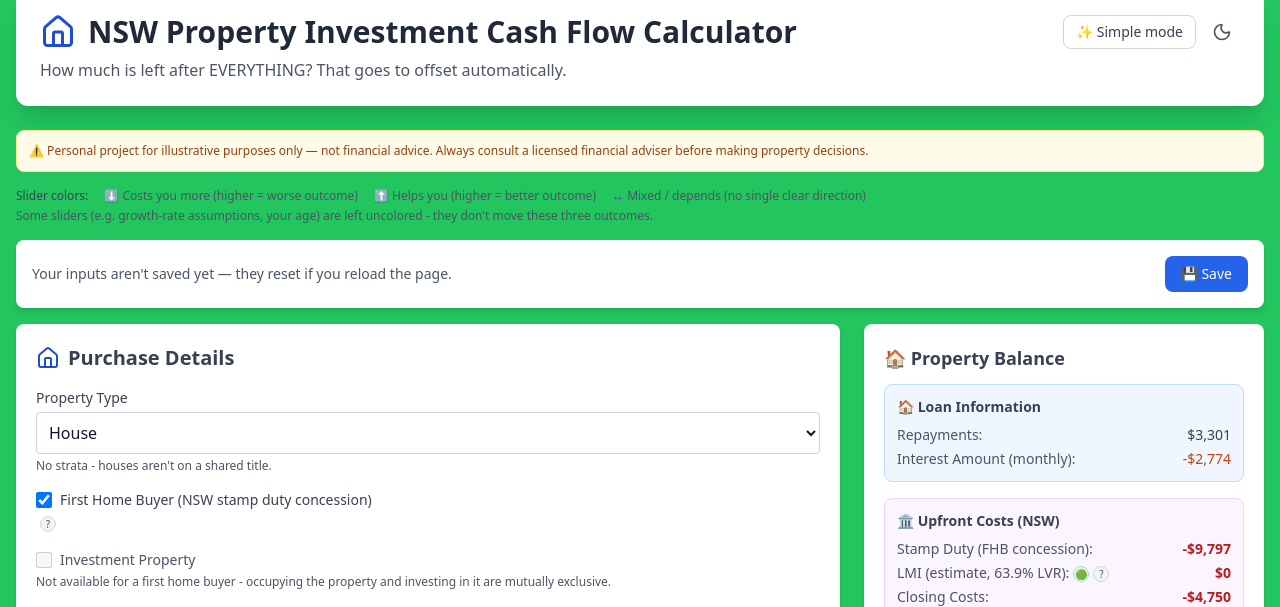
Test case: Property Type (house vs unit) › switching back to house and then to unit again does not re-seed a bumped Strata value
Select "Unit / Apartment" in the dropdown showing "House" at (428, 433), box top-left (36, 412), bottom-right (820, 454)
(page scrolled)
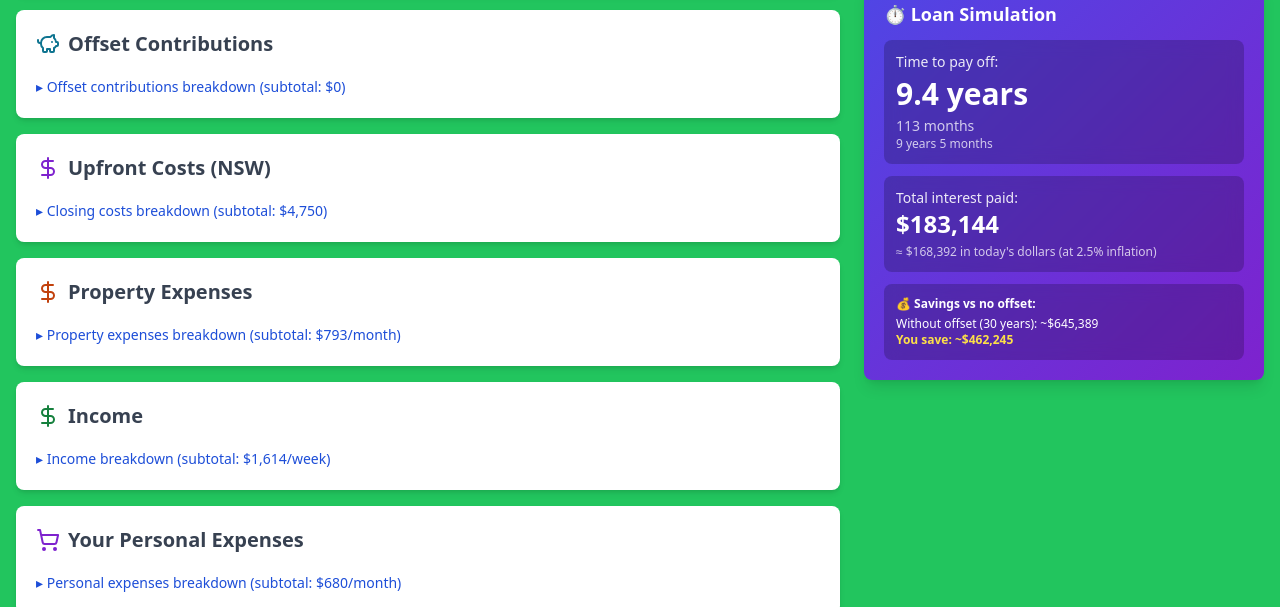
Click the button "▸ Property expenses breakdown (subtotal: $793/month)" at (218, 335), box top-left (36, 325), bottom-right (401, 345)
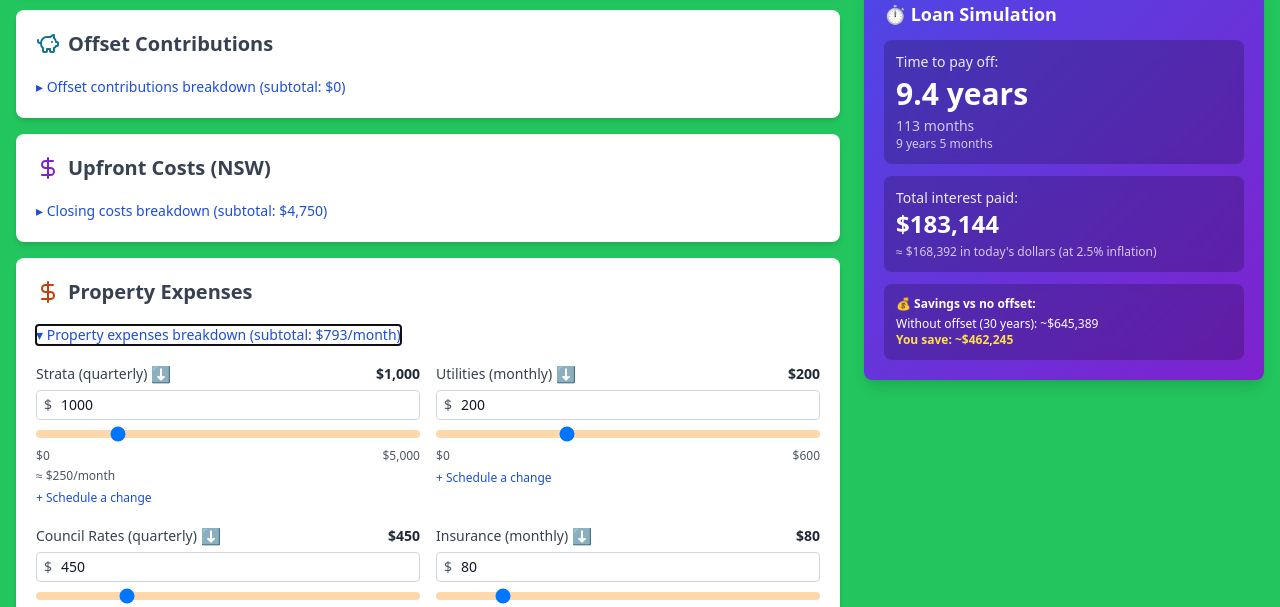
Replace the text in the number field labelled "Strata (quarterly)" with "3000" at (228, 405), box top-left (36, 390), bottom-right (420, 420)
(page scrolled)
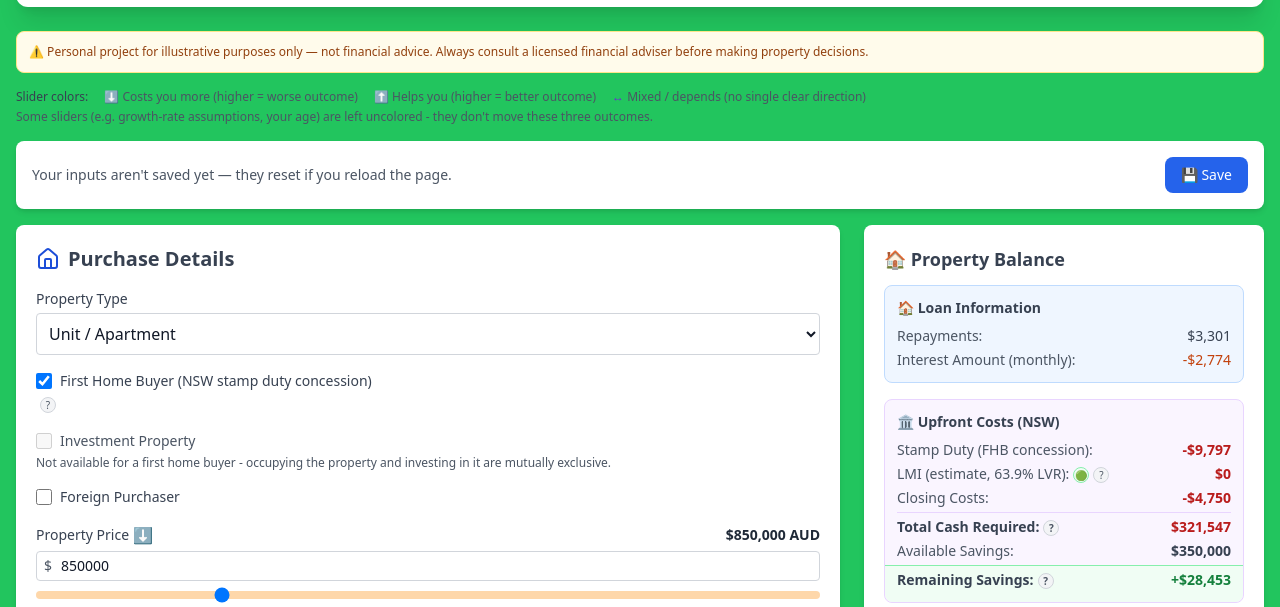
Select "House" in the dropdown showing "Unit / Apartment" at (428, 334), box top-left (36, 313), bottom-right (820, 355)
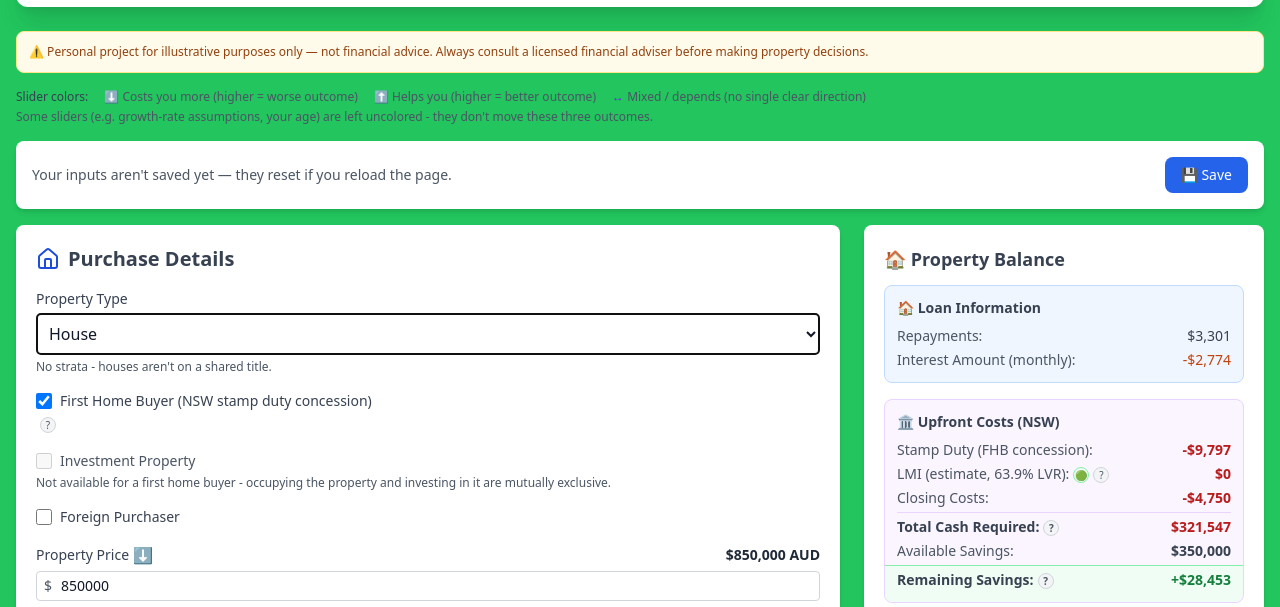
Select "Unit / Apartment" in the dropdown showing "House" at (428, 334), box top-left (36, 313), bottom-right (820, 355)
(page scrolled)
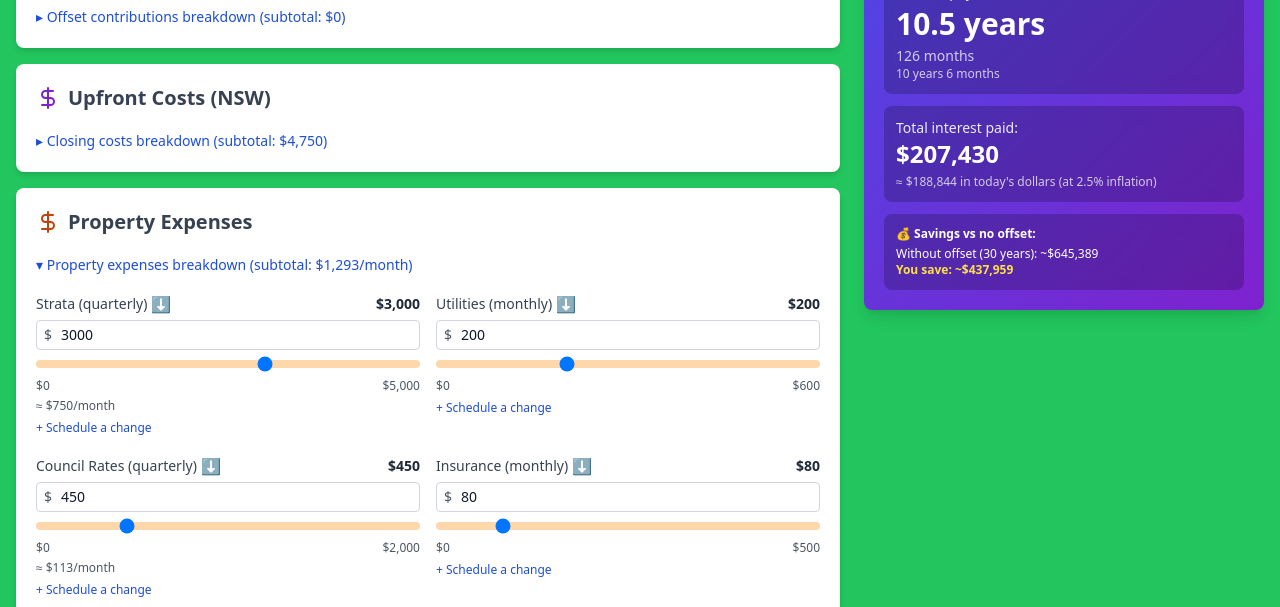
Expected: the number field labelled "Strata (quarterly)" holds "3000", top-left (36, 320), bottom-right (420, 350)
